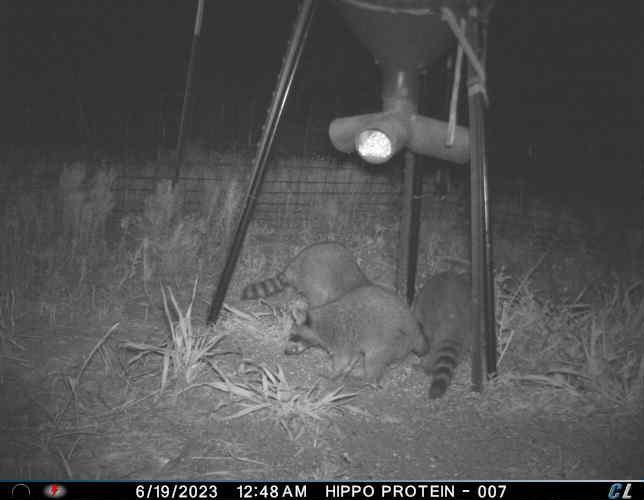Raccoon: (284, 284, 429, 395), (239, 239, 378, 321), (411, 269, 477, 400)
